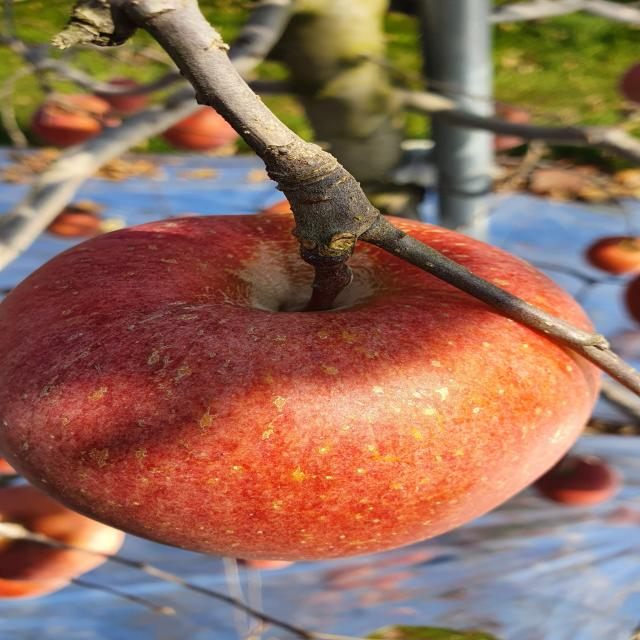fresh: (13, 208, 617, 573)
